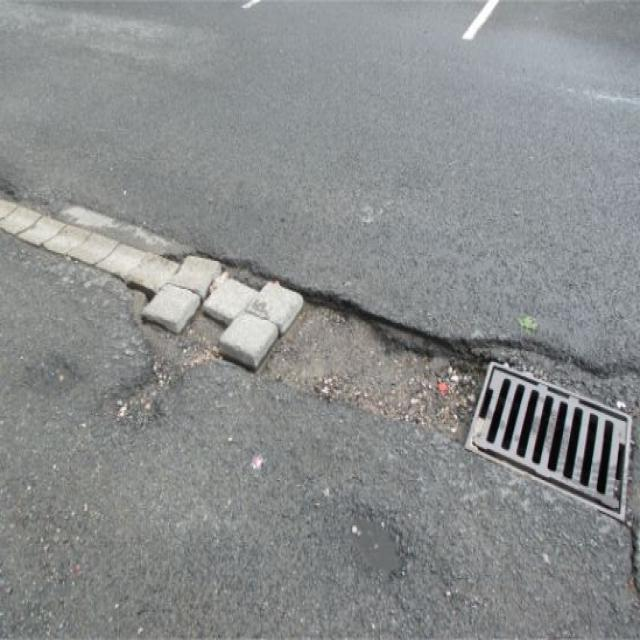Pothole: (98, 244, 493, 435)
